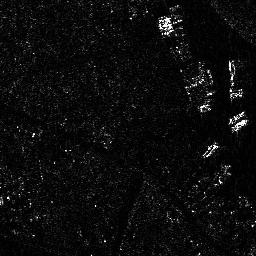ship: (202, 141, 217, 158)
